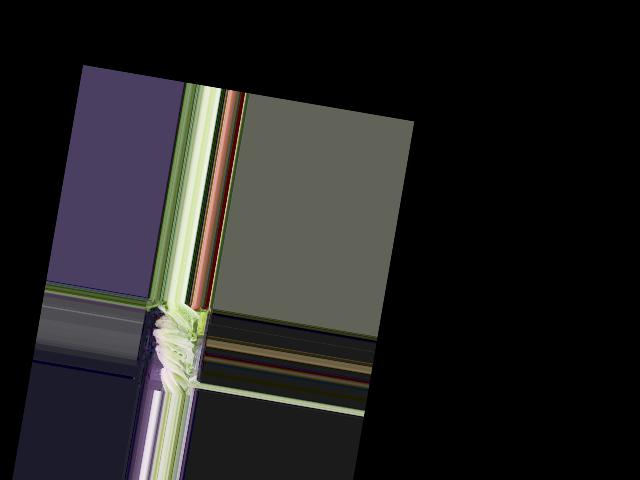lettuce: (156, 364, 189, 396)
